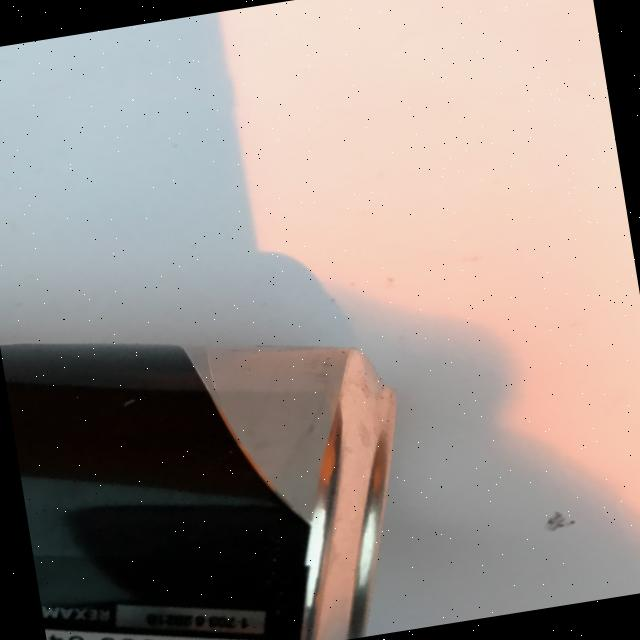metal: (1, 283, 433, 640)
